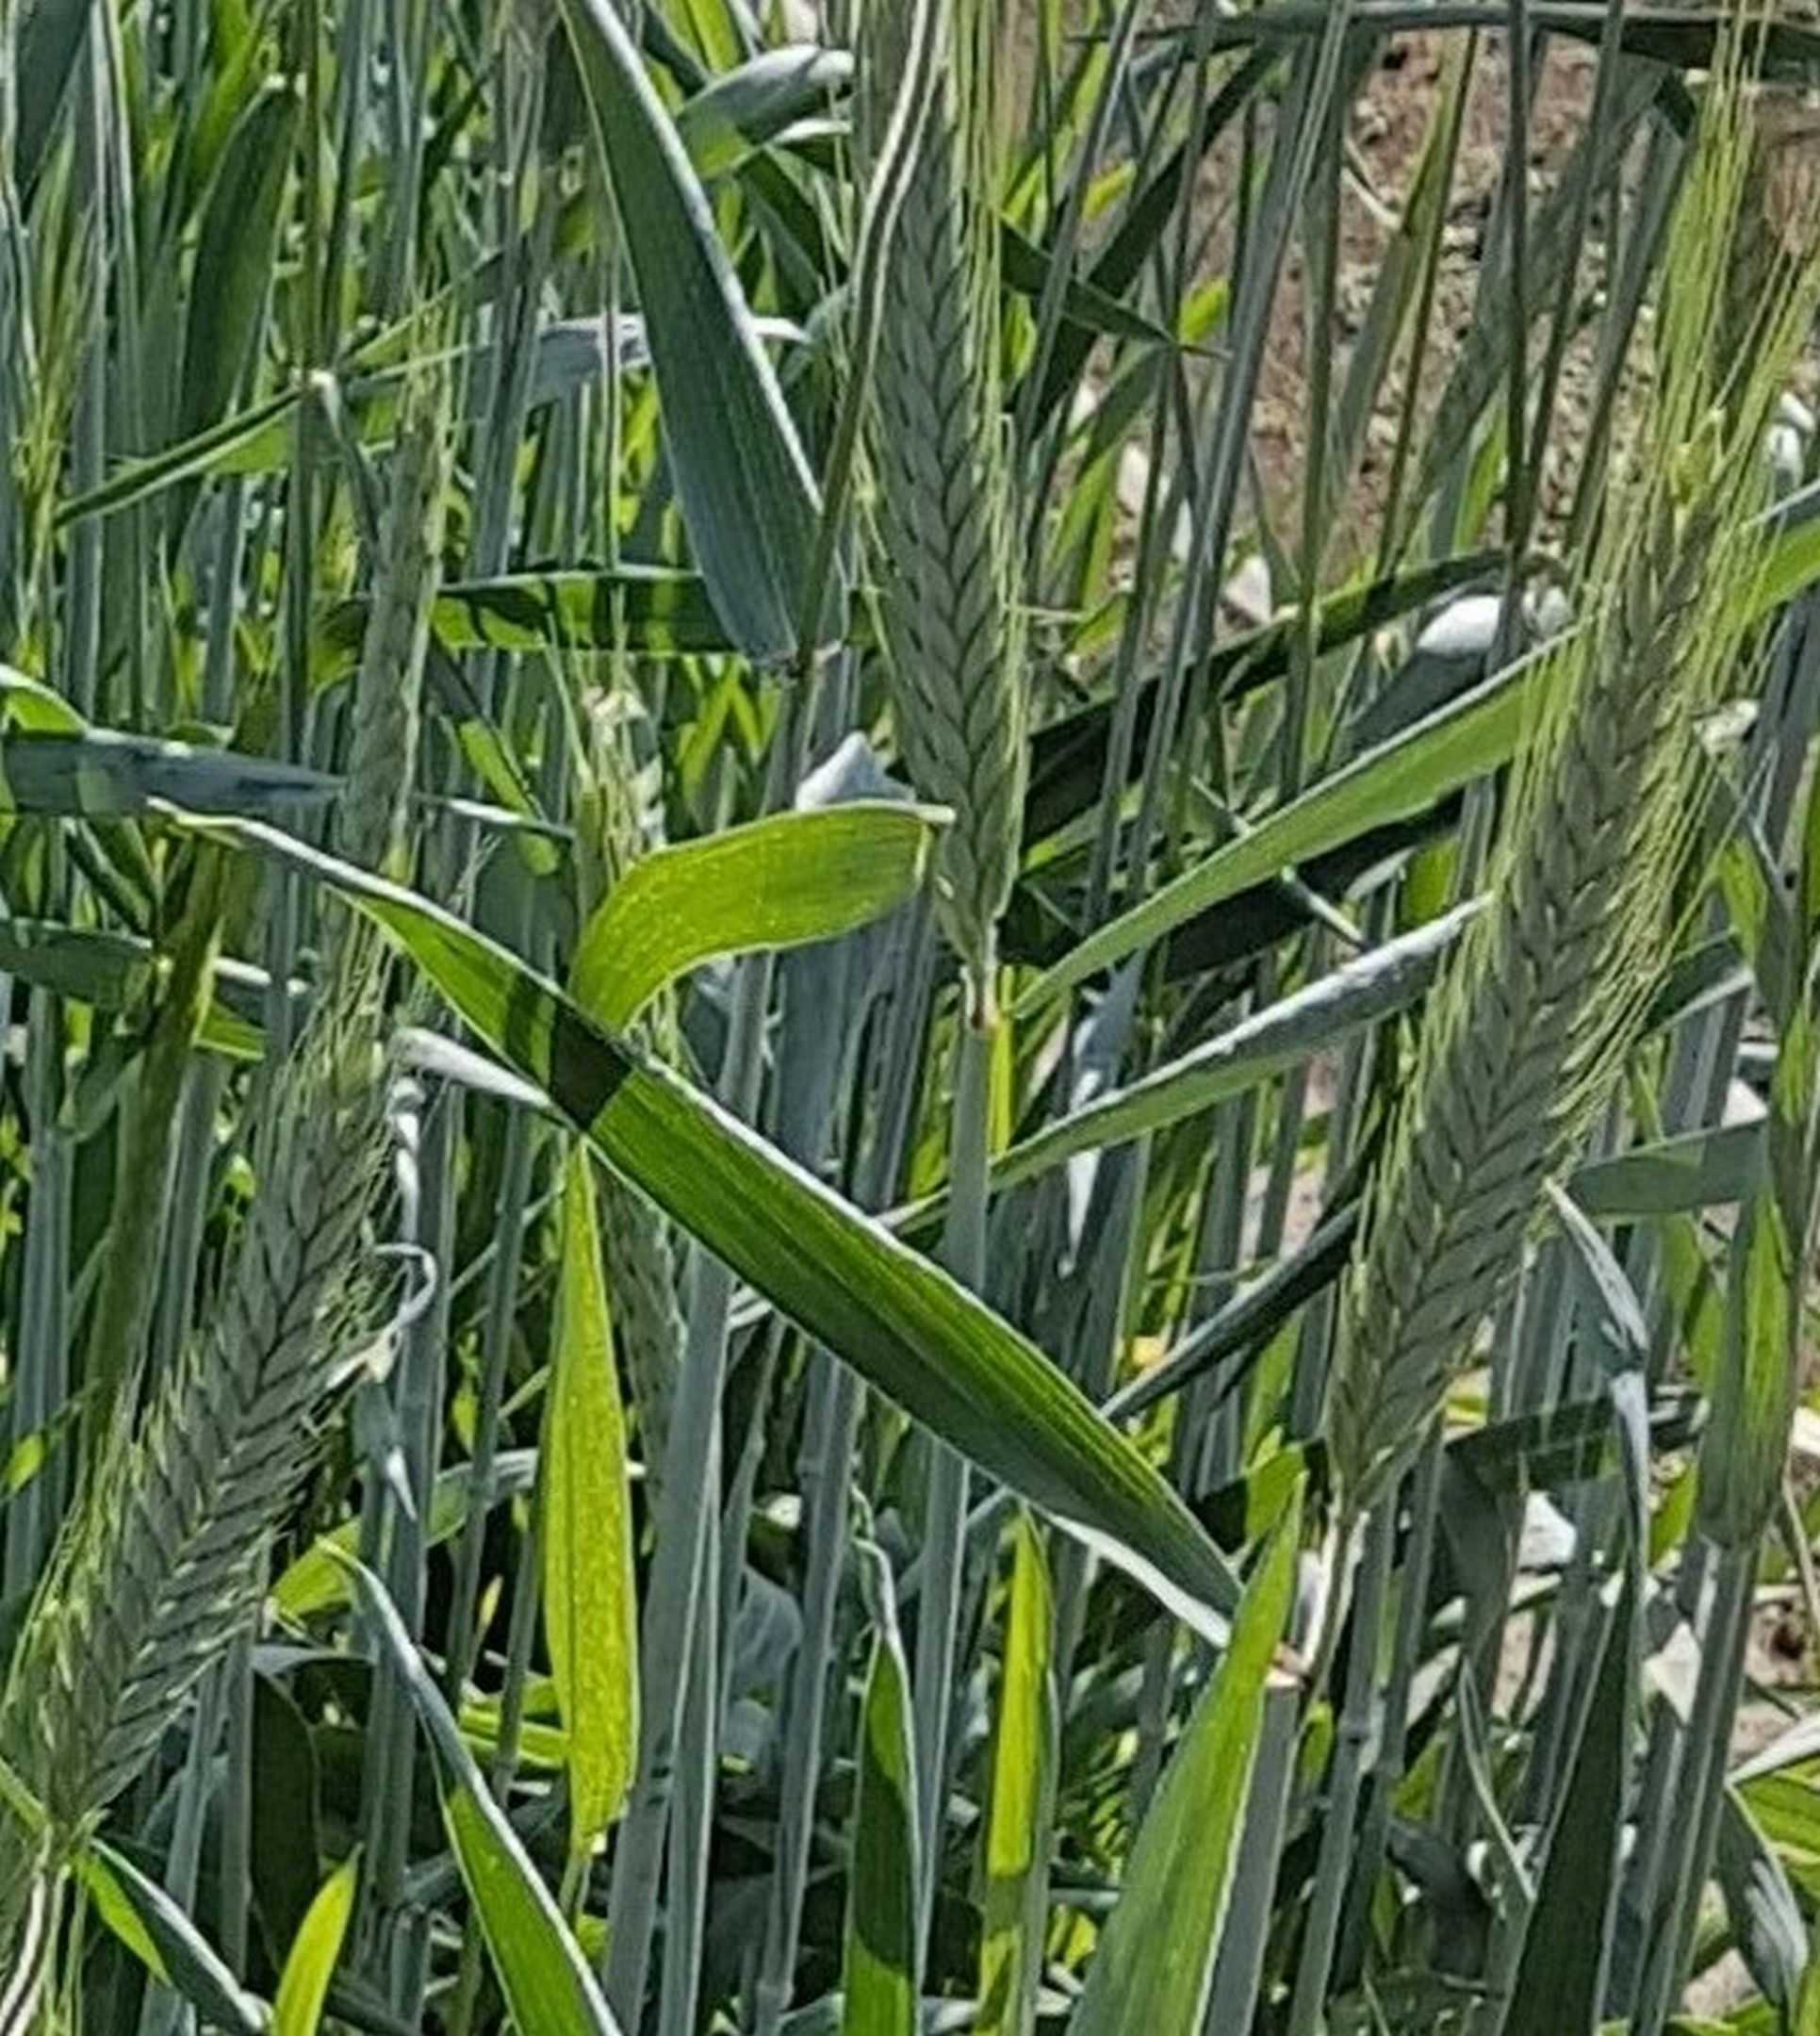Healthy Wheat: (1323, 483, 1748, 1500), (42, 1068, 411, 1839), (831, 118, 1068, 917)
